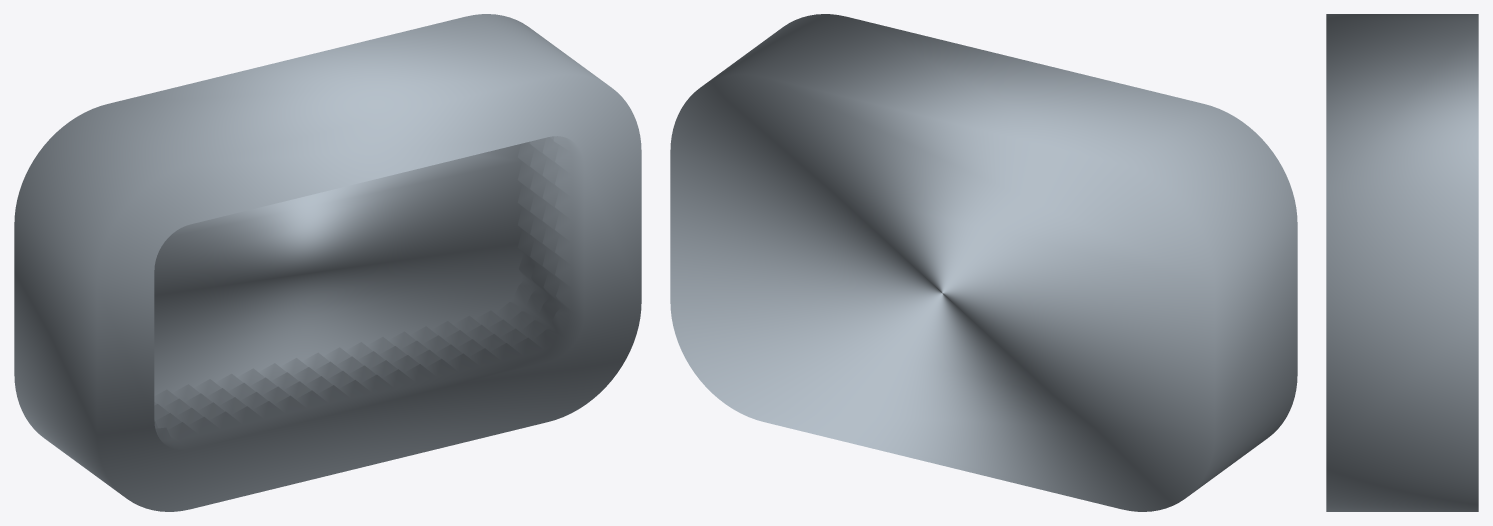
File: diceTable_v3.gltf
3 views of the same model, side by side, from view 1: azimuth 30°, elevation 25°; view 2: azimuth 150°, elevation 25°; view 3: azimuth 270°, elevation 25° (orthographic). The views are drawn at different scales.
Visible parts, largest first — view 1: mesh; view 2: mesh; view 3: mesh.
Boxes of the visible parts, x1,y1,x2,y2 form: mesh: (14, 14, 641, 511); mesh: (670, 14, 1297, 511); mesh: (1326, 14, 1478, 511).
Bounding box in the file's own units: 76 × 46 × 20.
